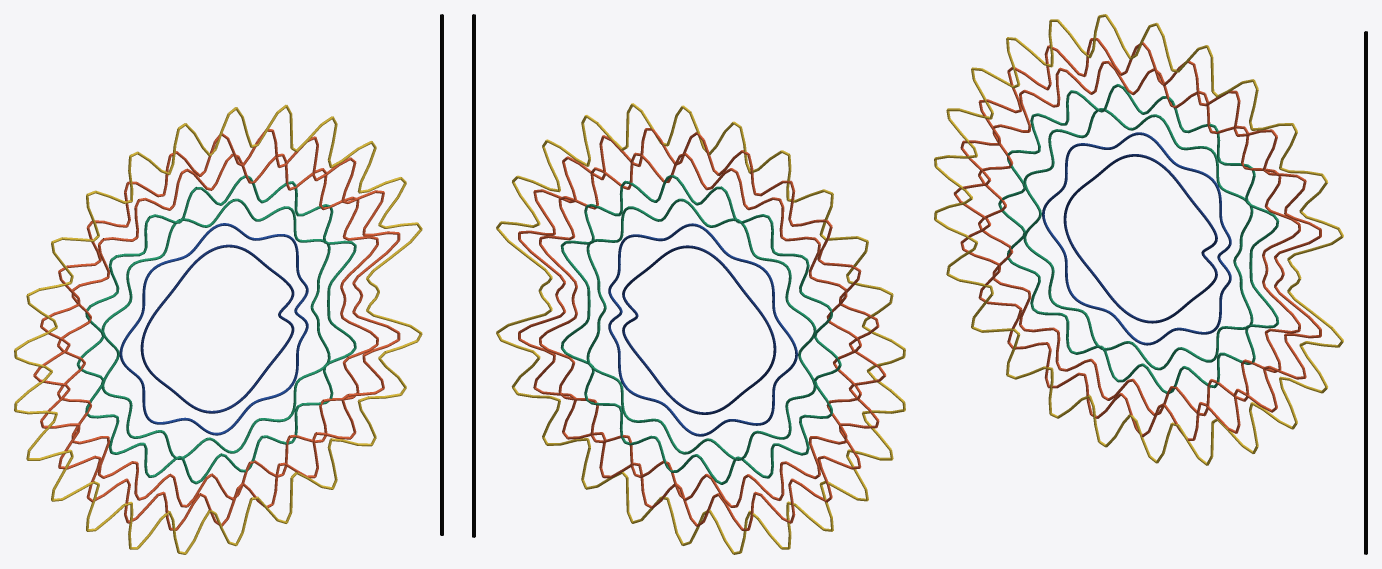
The model's file is Lotus_Drift_Torus.obj.
3 views of the same model, side by side, from view 1: azimuth 30°, elevation 25°; view 2: azimuth 150°, elevation 25°; view 3: azimuth 330°, elevation 25° (orthographic).
Parts seen in each view (by area): view 1: geometry_1260; view 2: geometry_1260; view 3: geometry_1260.
Part boxes in pixels (x1,y1,x2,y2): geometry_1260: [440, 14, 443, 535]; geometry_1260: [472, 14, 475, 537]; geometry_1260: [1364, 31, 1367, 554].
Bounding box in the file's own units: 3.54 × 4.09 × 0.038.
